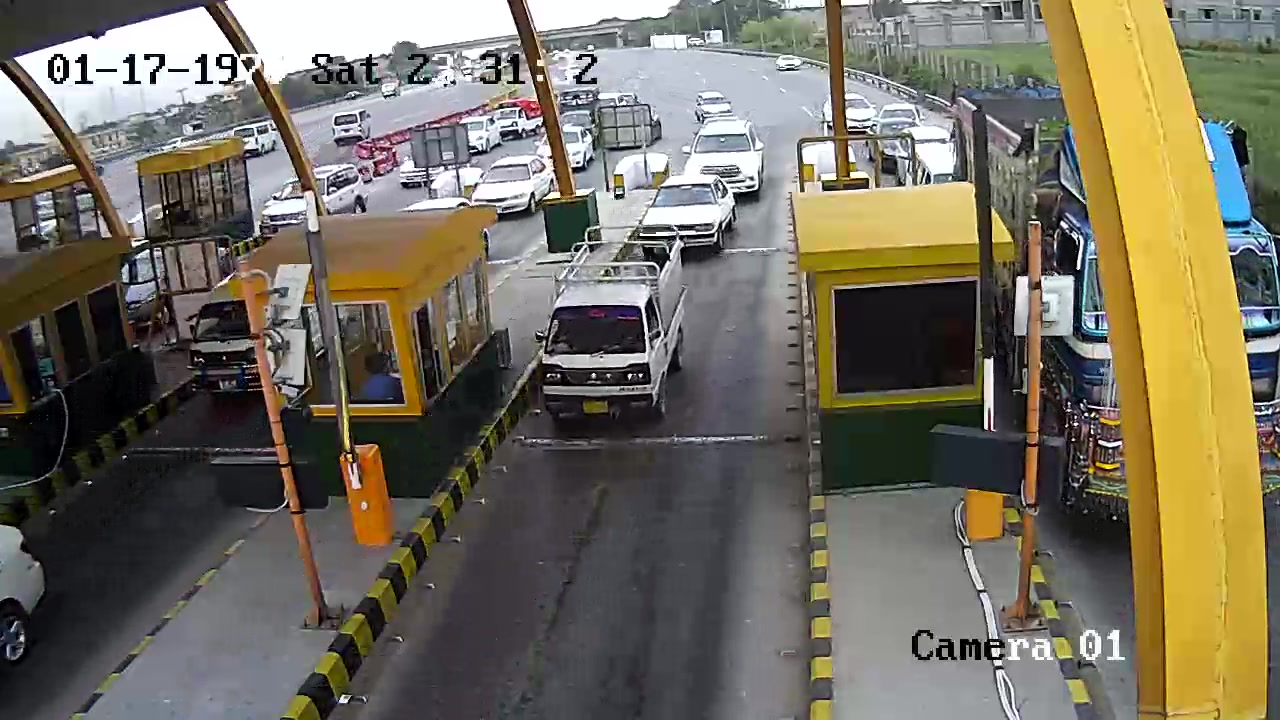F1: (538, 224, 695, 432)
